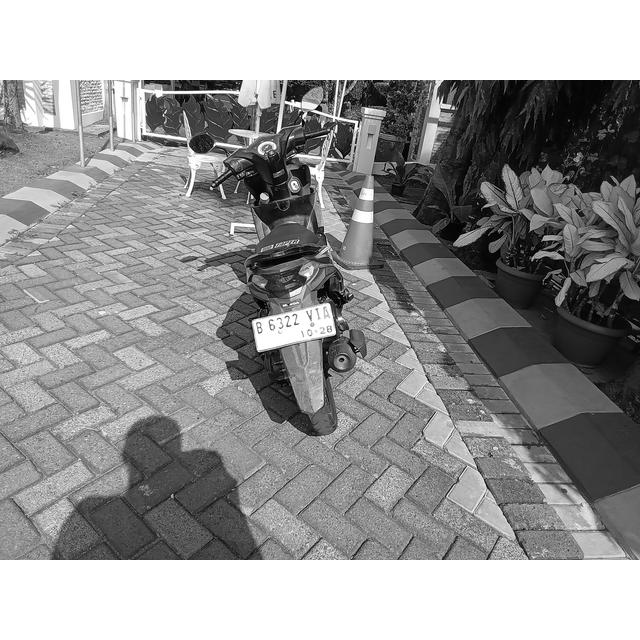license: (255, 302, 335, 342)
